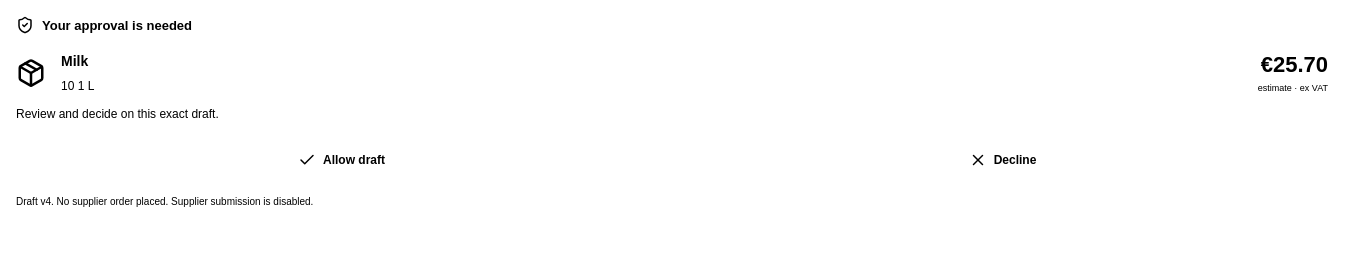
inline purchase decisions › allows an explicit retry after a transient decision failure and same-revision reload
Click the button "Allow draft".
click(342, 160)  # box 16,139 -> 667,181
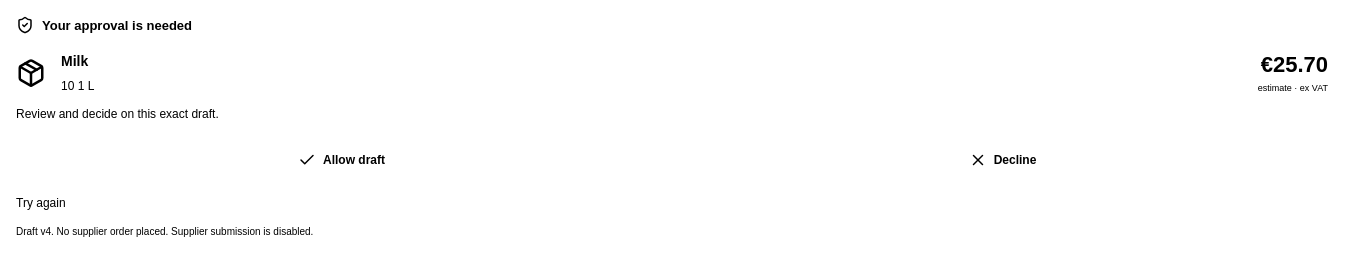
expect the button "Decline" is enabled: met, box 677,139 -> 1328,181
expect the text "Try again" is shown: met, box 16,196 -> 66,210
Click the button "Allow draft".
click(342, 160)  # box 16,139 -> 667,181
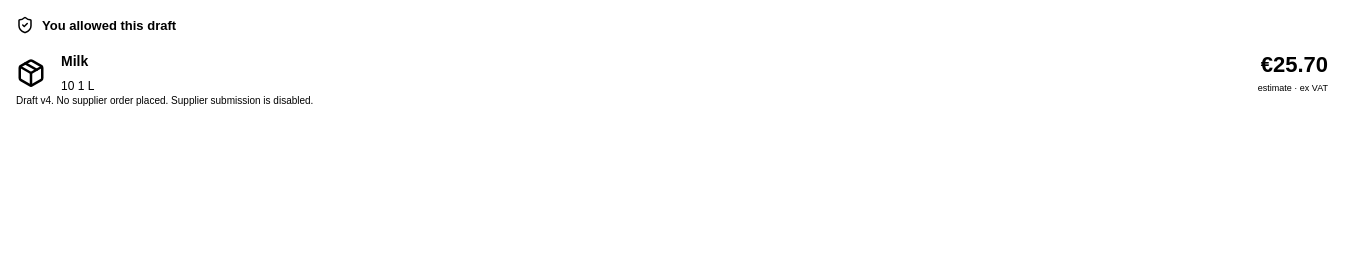
expect the text "You allowed this draft" is shown: met, box 42,18 -> 176,32
